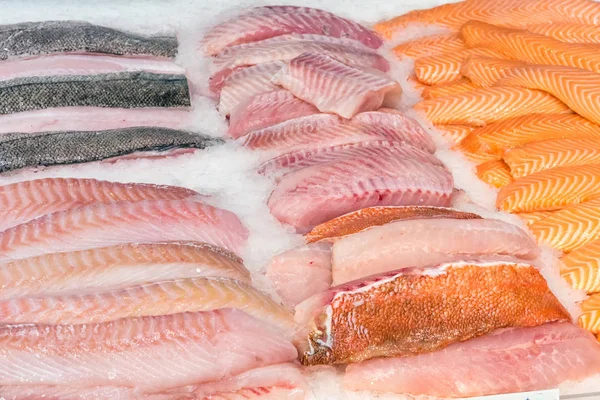bream-fish: (0, 311, 281, 385), (344, 323, 600, 392), (270, 156, 453, 236), (0, 200, 249, 258), (2, 245, 253, 296), (200, 6, 385, 57), (3, 179, 198, 217), (289, 54, 390, 116)
